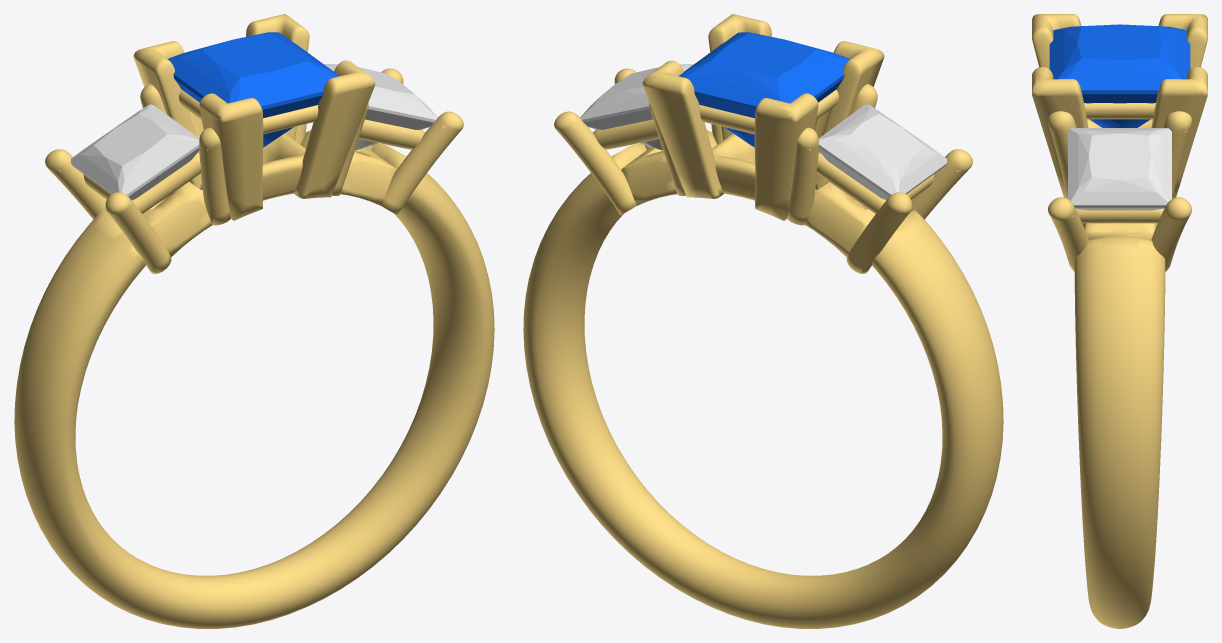
Rendered from bluesapphire-princess-yellowgold-protectededges4prongs-taperedband-3stone.glb.
3 renders of one model, left to right at view 1: azimuth 30°, elevation 25°; view 2: azimuth 150°, elevation 25°; view 3: azimuth 270°, elevation 25°, orthographic.
Visible parts, largest first — view 1: metal, stone, side.001, side; view 2: metal, stone, side.001, side; view 3: metal, stone, side.
Part boxes in pixels (bbox=[...]): metal: bbox=[14, 14, 494, 628]; stone: bbox=[167, 32, 338, 147]; side.001: bbox=[71, 104, 199, 200]; side: bbox=[324, 64, 437, 150]; metal: bbox=[523, 14, 1003, 628]; stone: bbox=[679, 32, 850, 147]; side.001: bbox=[818, 104, 946, 200]; side: bbox=[580, 64, 693, 150]; metal: bbox=[1032, 14, 1207, 628]; stone: bbox=[1049, 24, 1190, 127]; side: bbox=[1068, 128, 1171, 210].
Bounding box in the file's own units: 20.5 × 23.84 × 6.77.
